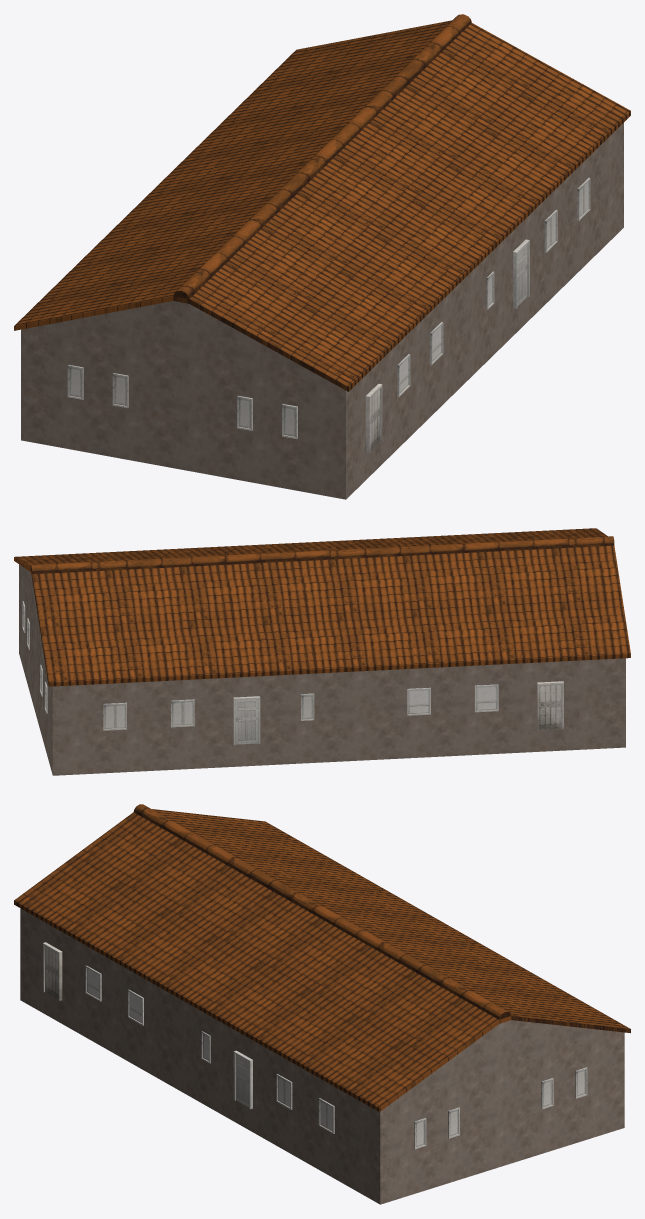
The model's file is Casa_14.fbx.
The picture shows the model from 3 angles, top to bottom: view 1: azimuth 30°, elevation 25°; view 2: azimuth 150°, elevation 25°; view 3: azimuth 270°, elevation 25°; orthographic projection. The views are drawn at different scales.
Parts seen in each view (by area): view 1: Casa_14; view 2: Casa_14; view 3: Casa_14.
Boxes of the visible parts, left/top/right/bottom form: Casa_14: left=14, top=14, right=630, bottom=499; Casa_14: left=14, top=528, right=630, bottom=775; Casa_14: left=14, top=804, right=630, bottom=1204.
Size of the model in its own units: 25.42 by 6.45 by 23.12.
